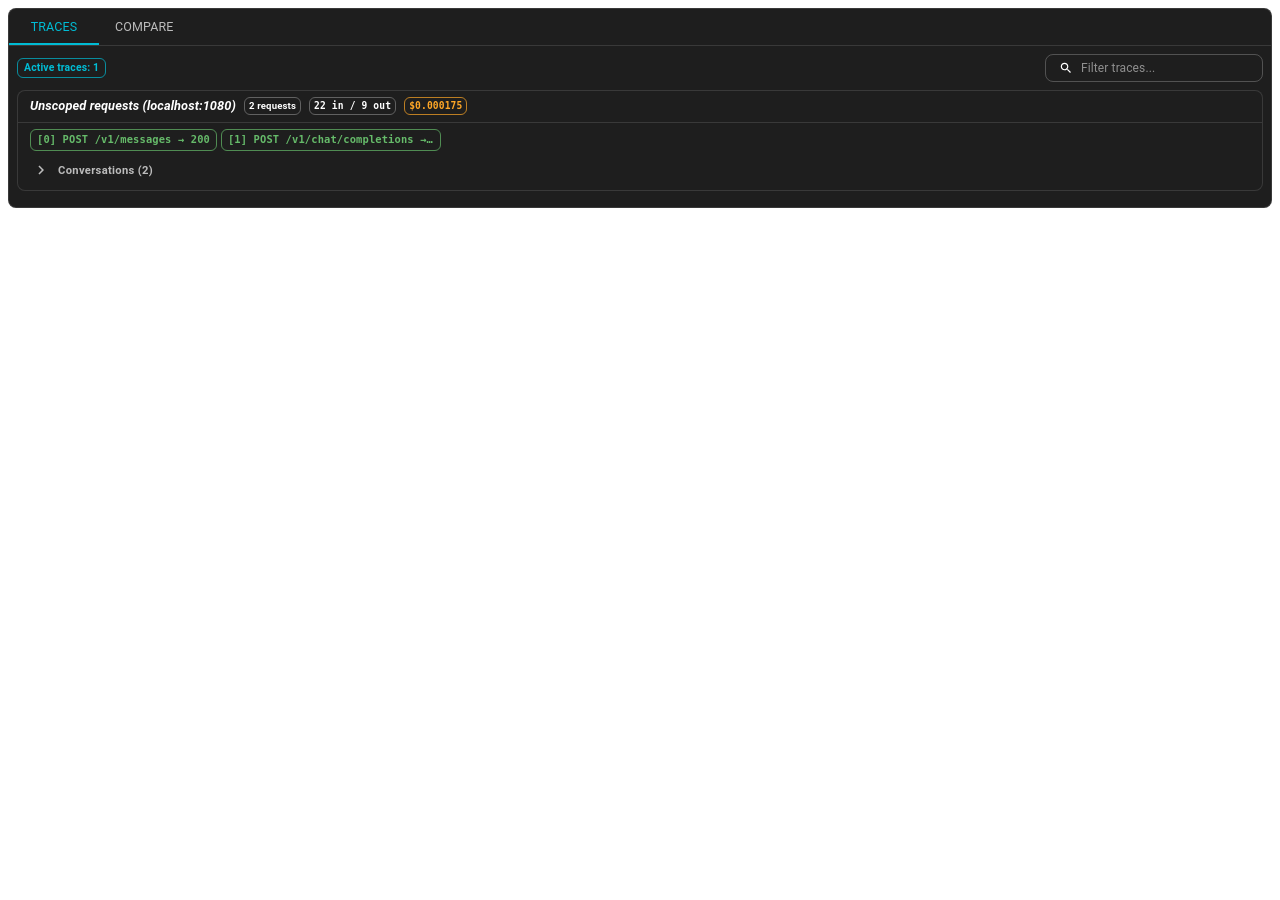
SessionInspector › flags a mixed unscoped lane and hides the agent-run graph
The width and height of the screenshot is (1280, 900).
Step 1. Click the button "Conversations (2)" → point(94, 170), box [30,156,157,184]
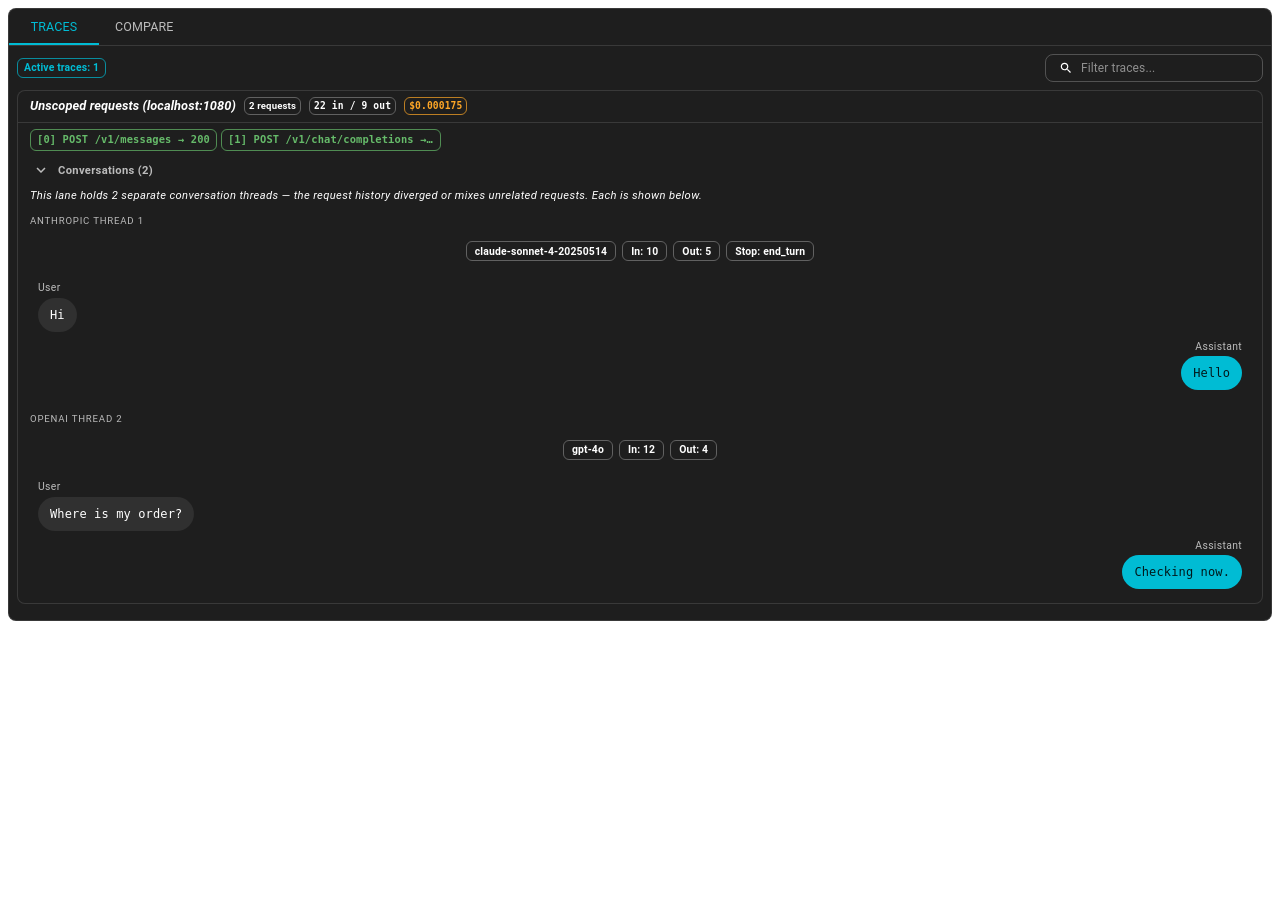
Expected: the text "2 separate conversation threads" is shown, [30,189,702,202]
